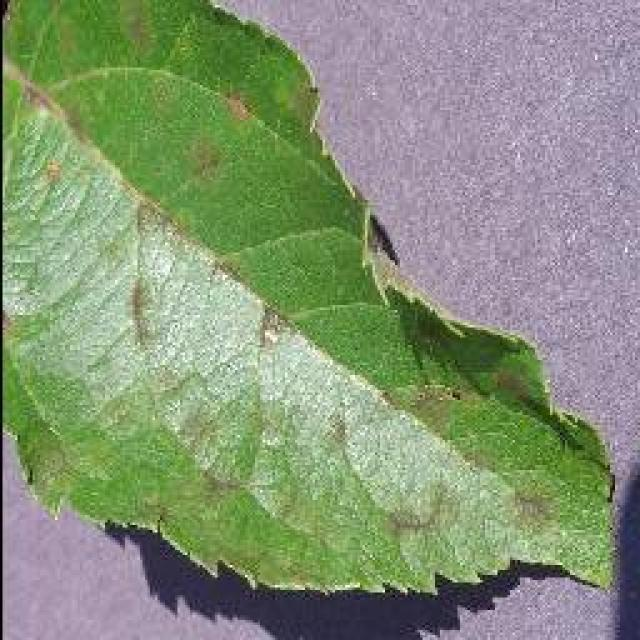apple scab disease: (0, 0, 618, 600)
